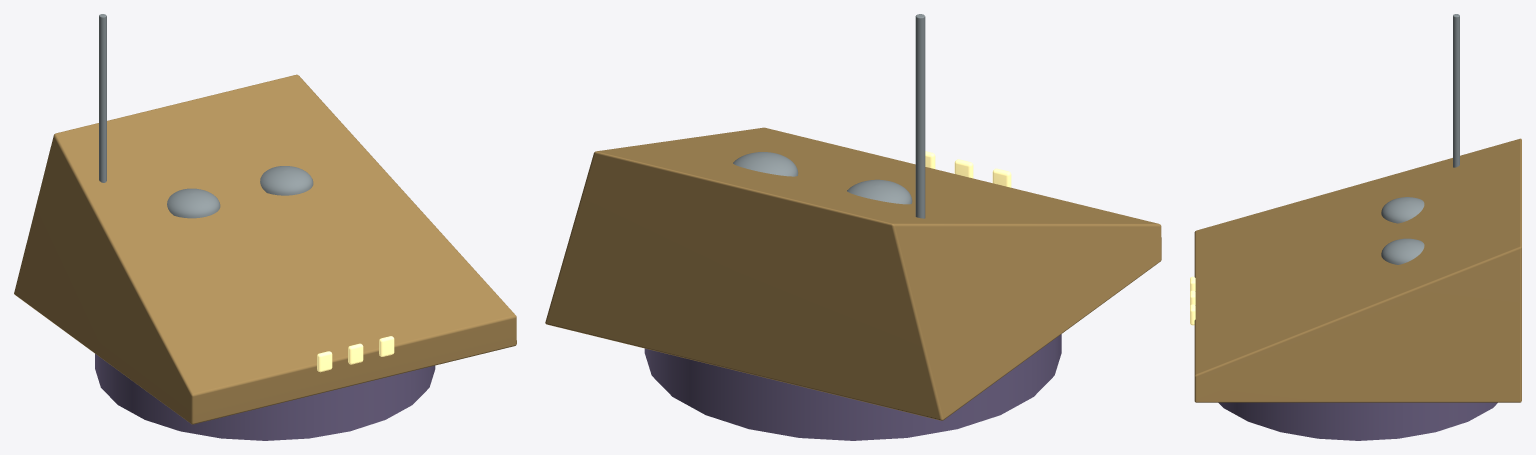
3 views of the same model, side by side, from view 1: azimuth 30°, elevation 25°; view 2: azimuth 150°, elevation 25°; view 3: azimuth 270°, elevation 25° (orthographic). The views are drawn at different scales.
Visible parts, largest first — view 1: Sloping industrial housing, Foundation drum, Aerial stem, Housing top service hatch, Housing top service hatch.001; view 2: Sloping industrial housing, Foundation drum, Aerial stem, Housing top service hatch, Housing top service hatch.001; view 3: Sloping industrial housing, Foundation drum, Aerial stem, Housing top service hatch.001, Housing top service hatch.
Boxes of the visible parts, x1,y1,x2,y2 form: Sloping industrial housing: [14, 74, 516, 424]; Foundation drum: [95, 354, 435, 440]; Aerial stem: [99, 14, 106, 182]; Housing top service hatch: [167, 188, 220, 218]; Housing top service hatch.001: [260, 166, 313, 195]; Sloping industrial housing: [545, 127, 1161, 420]; Foundation drum: [644, 334, 1061, 440]; Aerial stem: [915, 14, 925, 218]; Housing top service hatch: [847, 179, 912, 204]; Housing top service hatch.001: [733, 152, 798, 176]; Sloping industrial housing: [1194, 138, 1521, 402]; Foundation drum: [1218, 402, 1497, 440]; Aerial stem: [1453, 14, 1459, 167]; Housing top service hatch.001: [1381, 238, 1424, 264]; Housing top service hatch: [1381, 197, 1424, 223].
Bounding box in the file's own units: 2.1 × 2.1 × 2.03.
